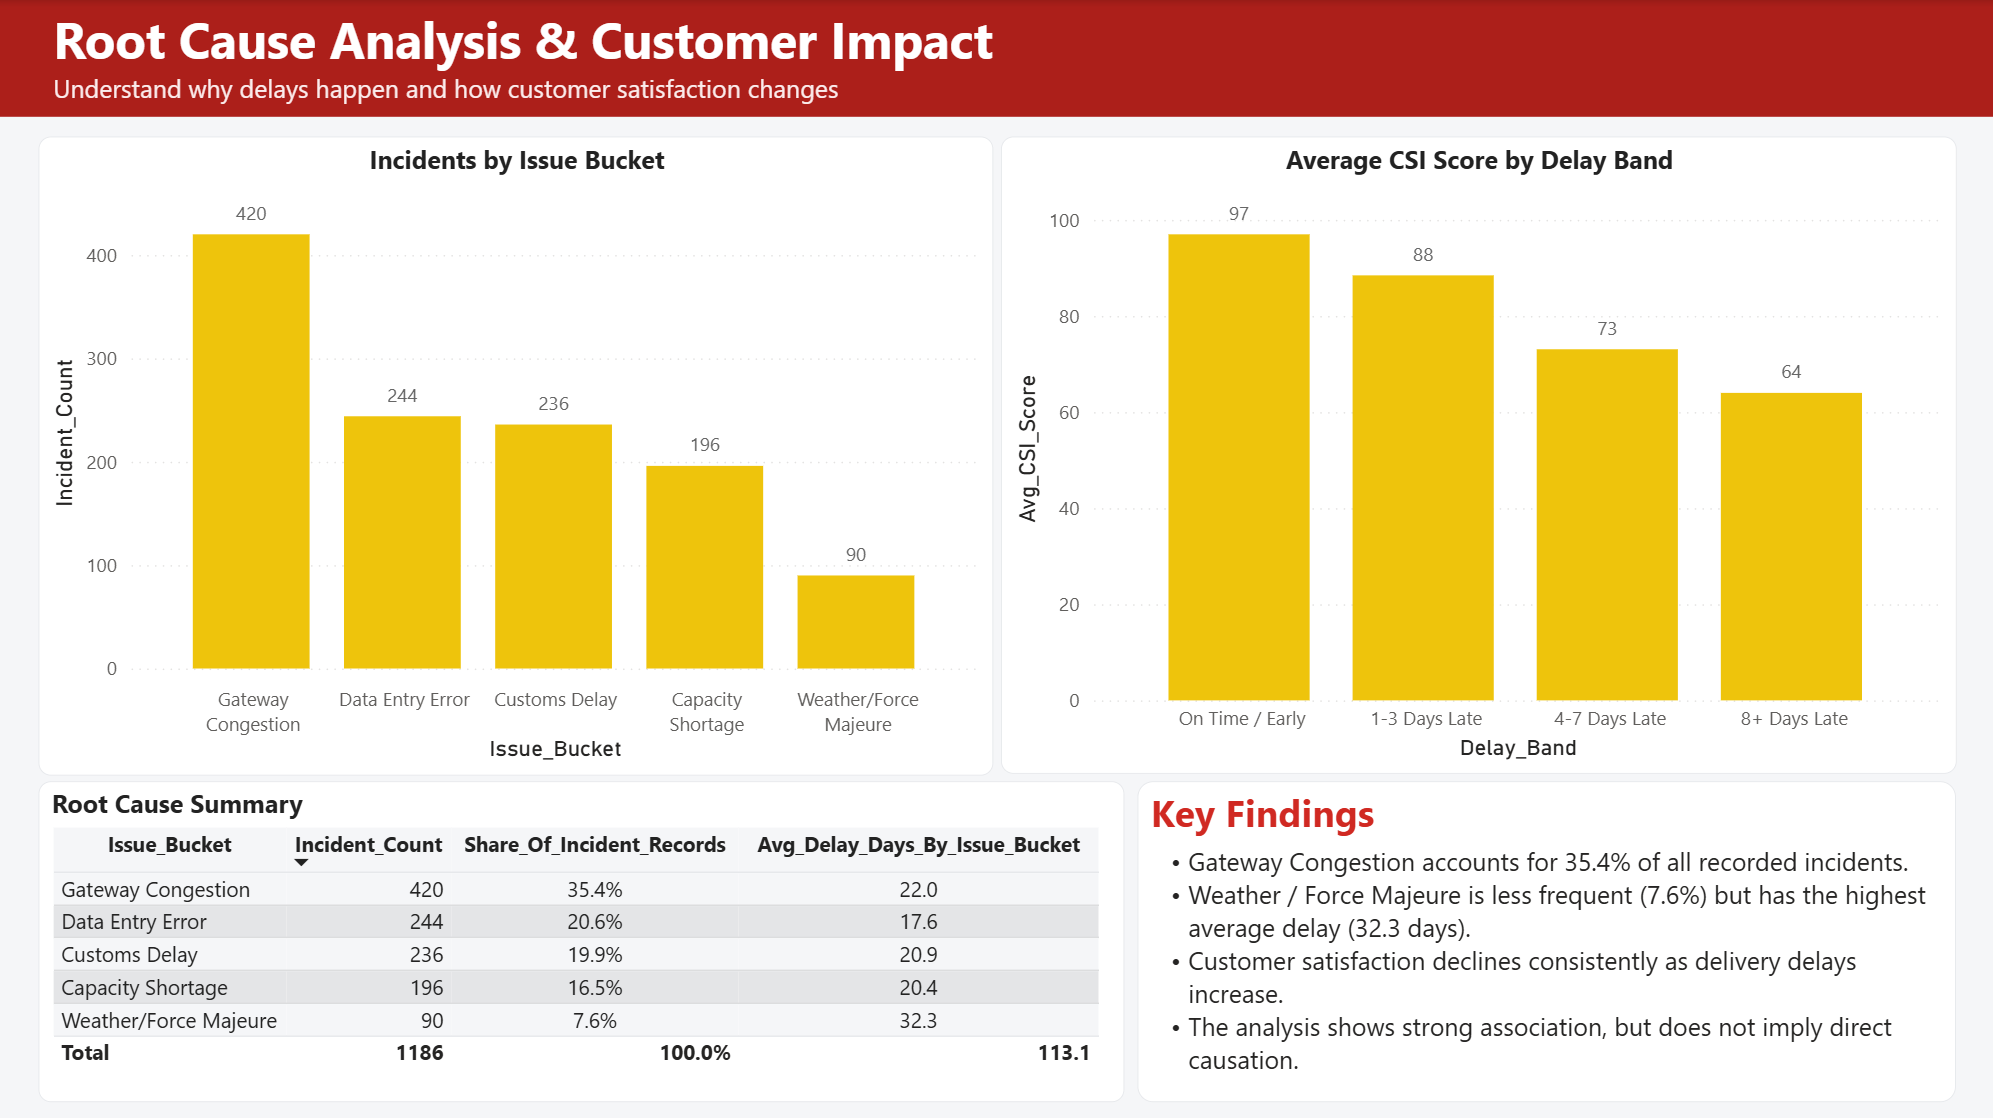

The dashboard page shown, as its layout file describes it:
{"tool":"powerbi","page":{"name":"Root Cause & Customer Impact","canvas":[1280,720],"ordinal":2},"visuals":[{"type":"shape","title":"Executive Overview","box":[0,0,1280.3,75],"z":0},{"type":"textbox","title":"Root Cause Analysis & Customer Impact","box":[29.6,3.9,1221.9,65.6],"z":1000},{"type":"clusteredColumnChart","title":"Incidents by Issue Bucket","fields":{"Category":["qry_04_incident_issue_bucket_summary.Issue_Bucket"],"Y":["Sum(qry_04_incident_issue_bucket_summary.Incident_Count)"]},"box":[24.4,87.5,612.3,410],"z":2000},{"type":"clusteredColumnChart","title":"Average CSI Score by Delay Band","fields":{"Category":["qry_06_csi_by_delay_band.Delay_Band"],"Y":["Sum(qry_06_csi_by_delay_band.Avg_CSI_Score)"]},"box":[641.6,87.5,612.4,409.4],"z":3000},{"type":"tableEx","title":"Root Cause Summary","fields":{"Values":["qry_04_incident_issue_bucket_summary.Issue_Bucket","Sum(qry_04_incident_issue_bucket_summary.Incident_Count)","Sum(qry_04_incident_issue_bucket_summary.Share_Of_Incident_Records)","Sum(qry_04_incident_issue_bucket_summary.Avg_Delay_Days_By_Issue_Bucket)"]},"box":[24.4,501.6,695.9,205.8],"z":4000},{"type":"textbox","title":"Key Findings","box":[729.3,501.6,524.8,205.8],"z":5000}]}

Visuals, with their boxes in screenshot pixels (x1, y1, x2, y2), scaled from the page's 1280x720 canvas onto the 1993x1118 screenshot:
"Executive Overview" shape: <region>0, 0, 1992, 116</region>
"Root Cause Analysis & Customer Impact" textbox: <region>46, 6, 1949, 108</region>
"Incidents by Issue Bucket" clusteredColumnChart: <region>38, 136, 991, 773</region>
"Average CSI Score by Delay Band" clusteredColumnChart: <region>999, 136, 1953, 772</region>
"Root Cause Summary" tableEx: <region>38, 779, 1122, 1098</region>
"Key Findings" textbox: <region>1136, 779, 1953, 1098</region>
